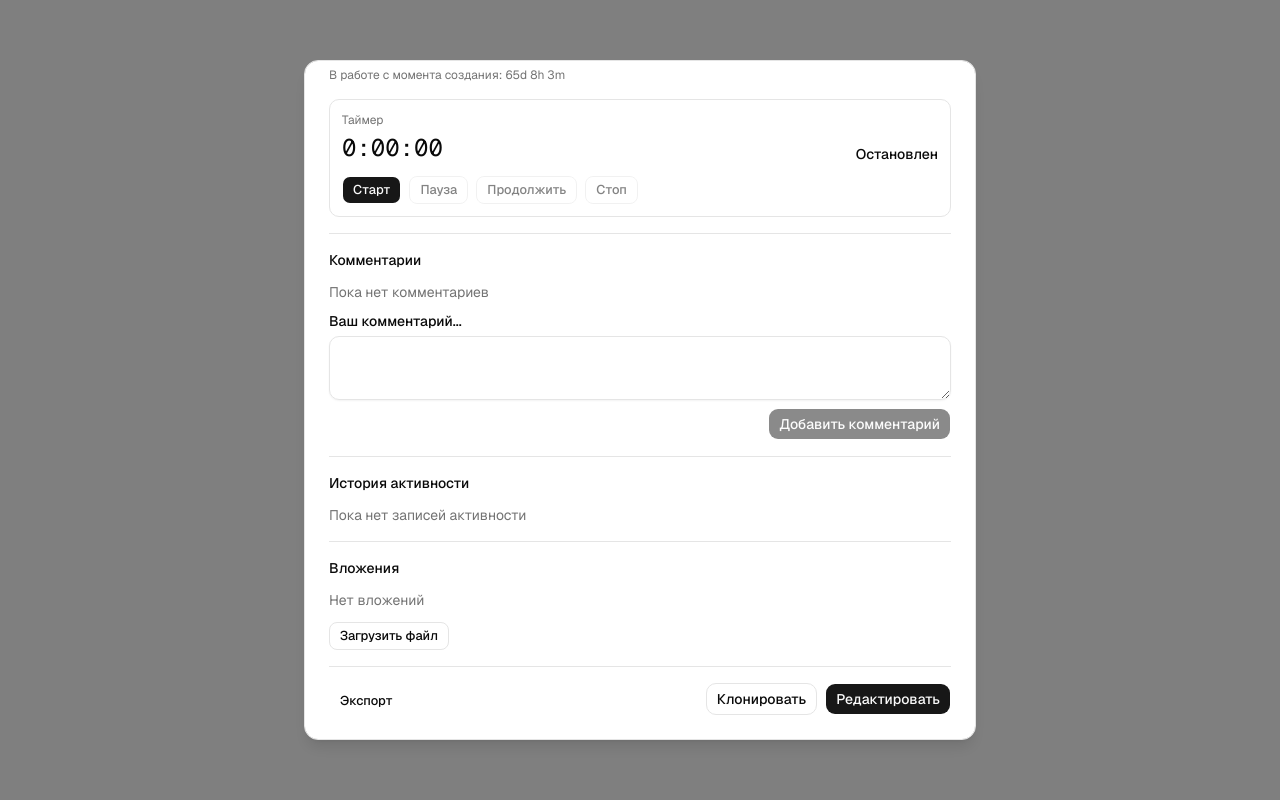
Test case: TaskDetail save › saves the edited field via PATCH and shows the updated value in read-only mode
This screenshot has width=1280, height=800.
(page scrolled)
Step 1. Click the button with test id "task-detail-edit" → (888, 699), box [825,683,951,715]
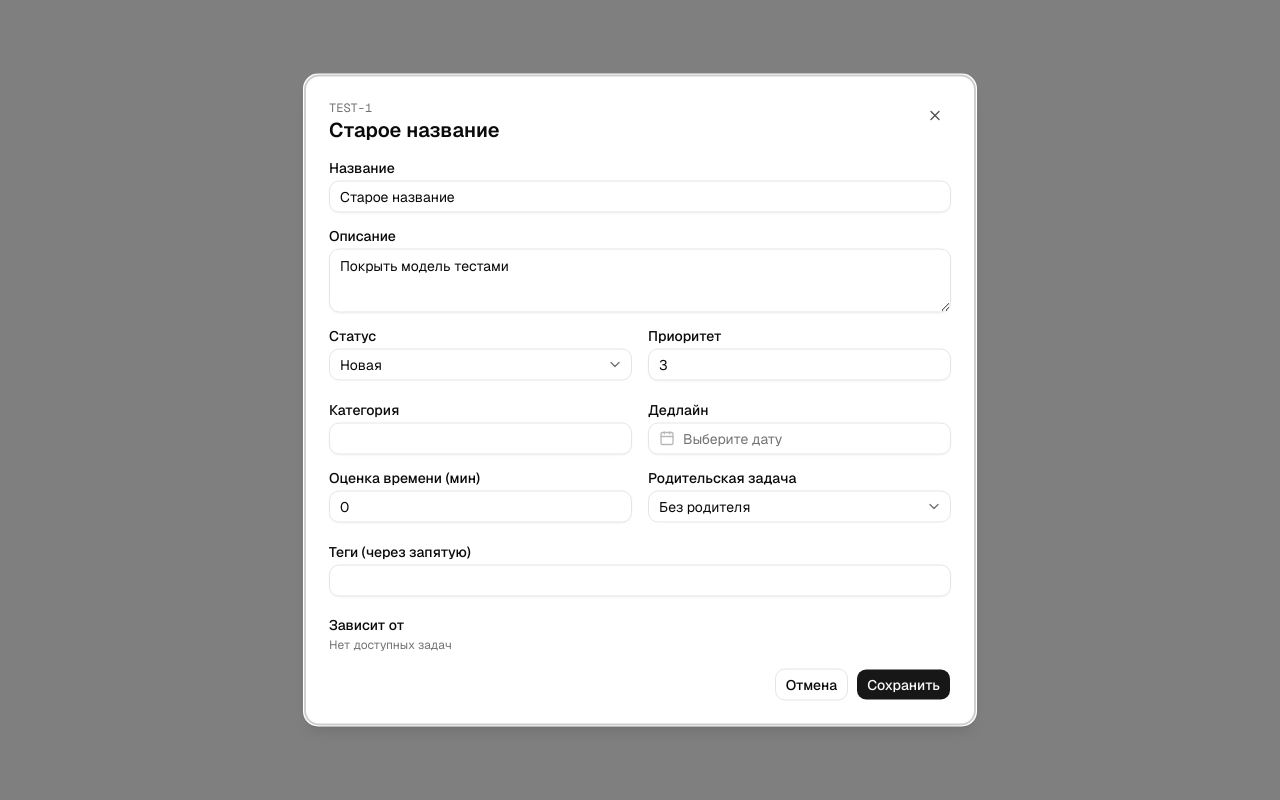
Step 2. Replace the text in the field labelled "Название" with "Новое название" → (640, 196), box [329,180,951,212]
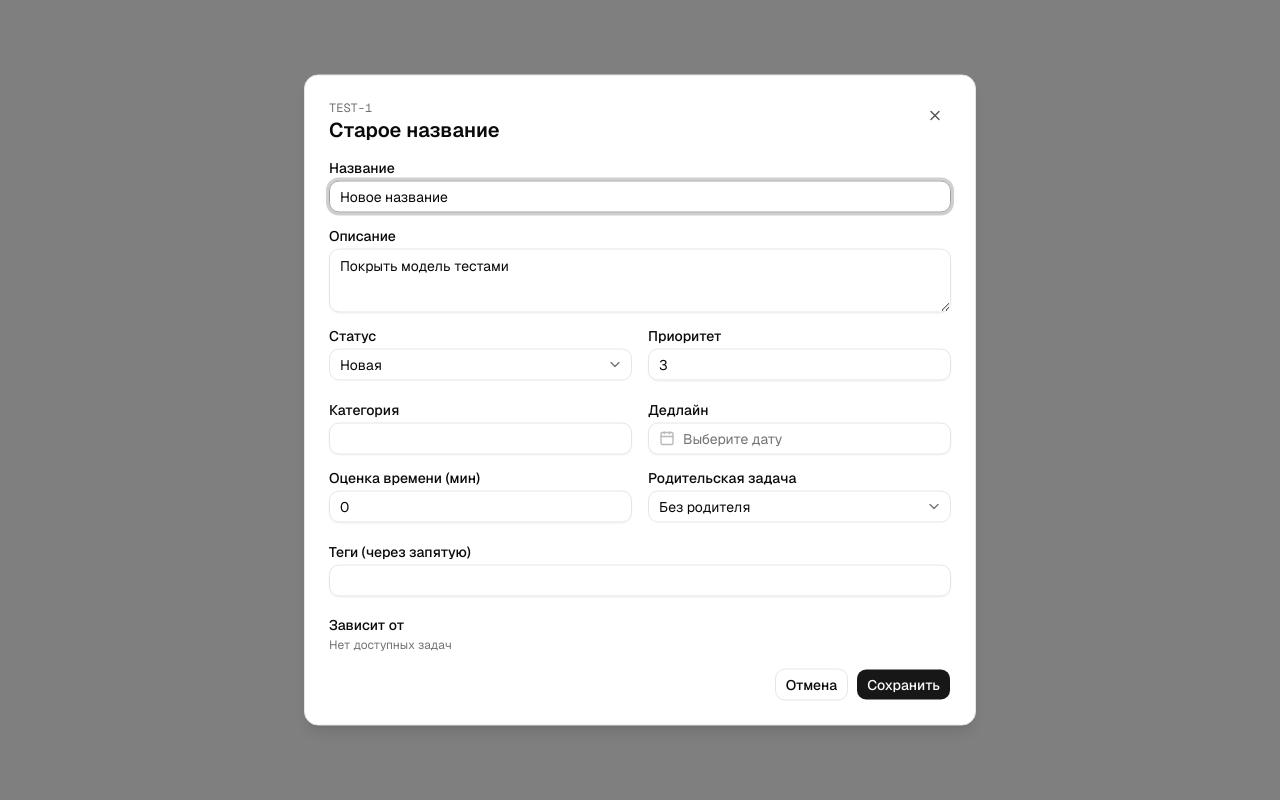
Step 3. Click the button with test id "task-edit-save" → (904, 684), box [856,668,951,700]
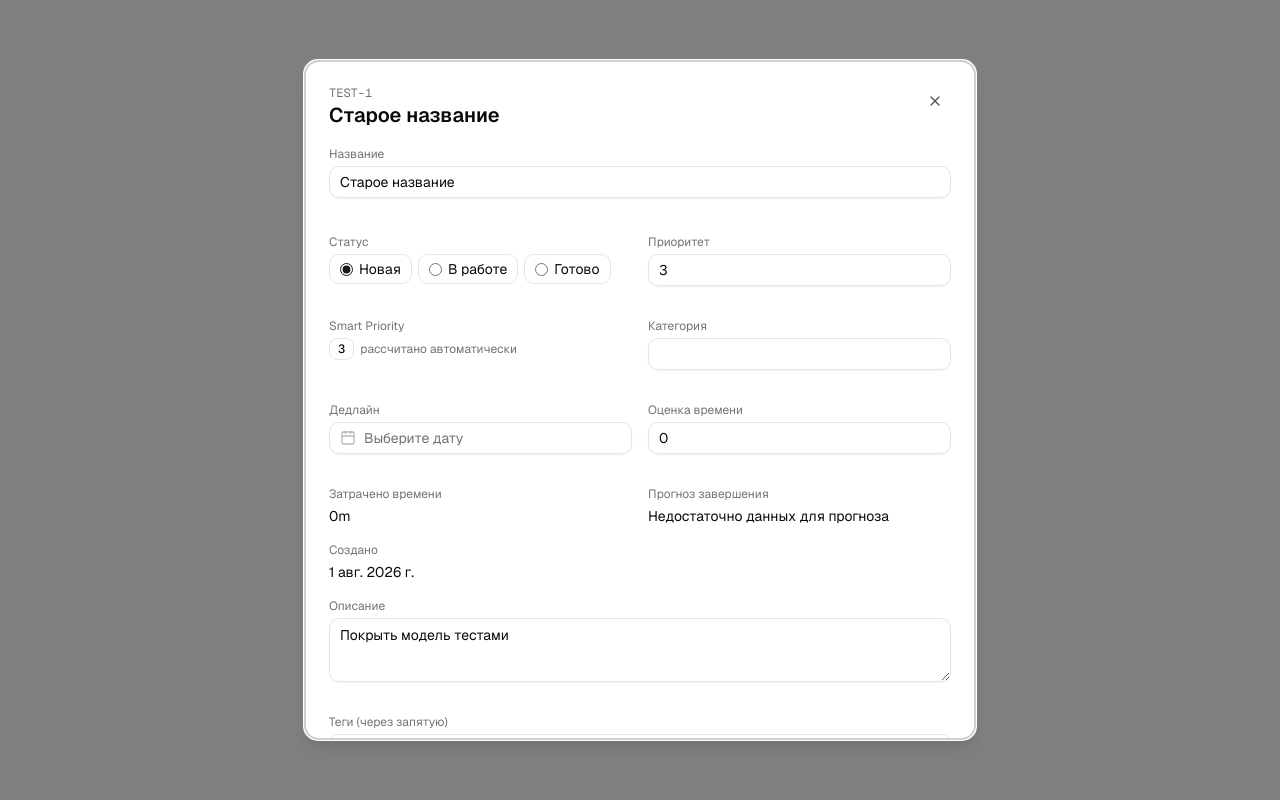
Now the form with test id "task-edit-form" is gone
